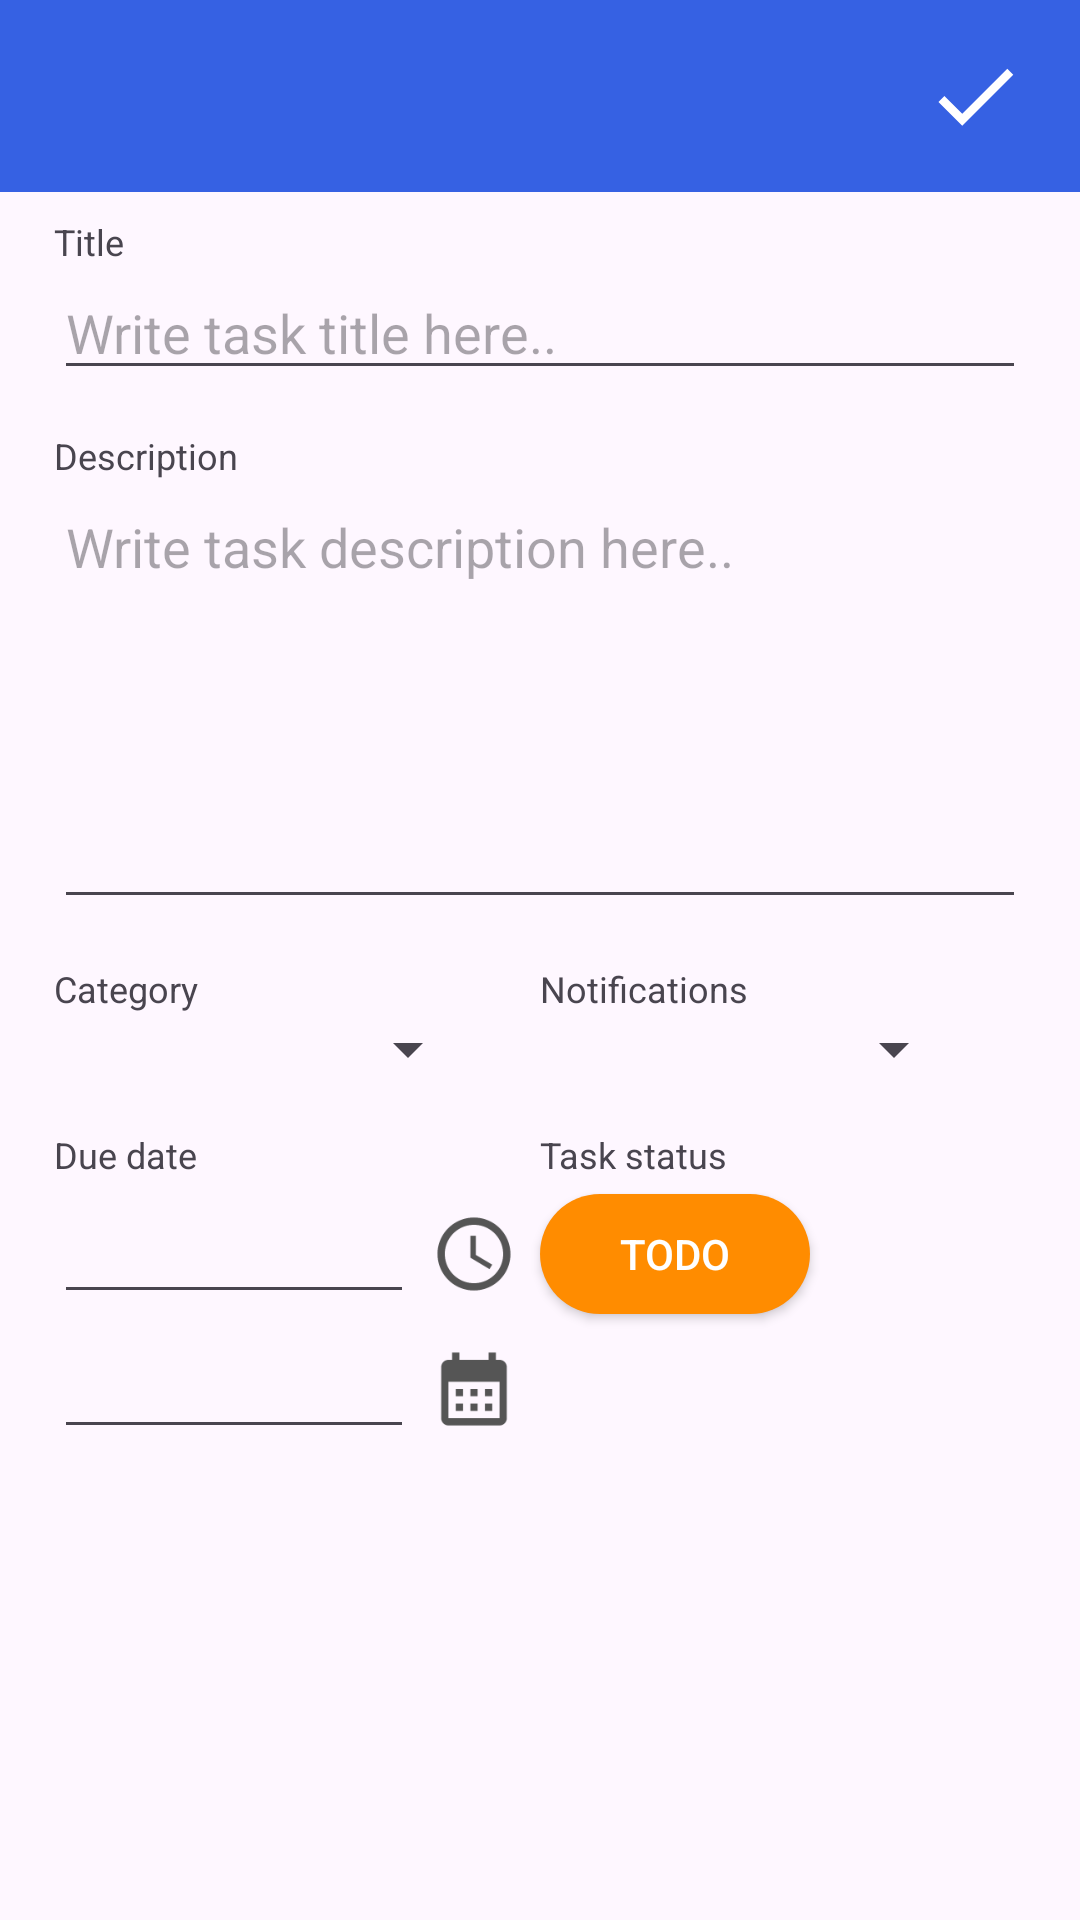

Point at icon controls on the screen. Image size 1080 x 1920, points as (x=x, y=y).
calendar: (x=474, y=1389)
done: (x=975, y=97)
time: (x=474, y=1254)
